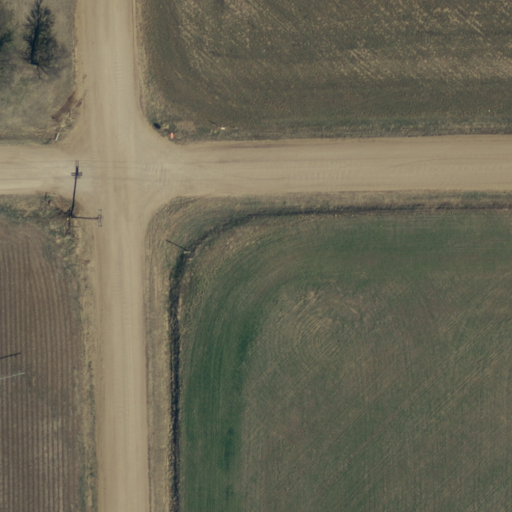DT: (63, 202, 109, 235)
